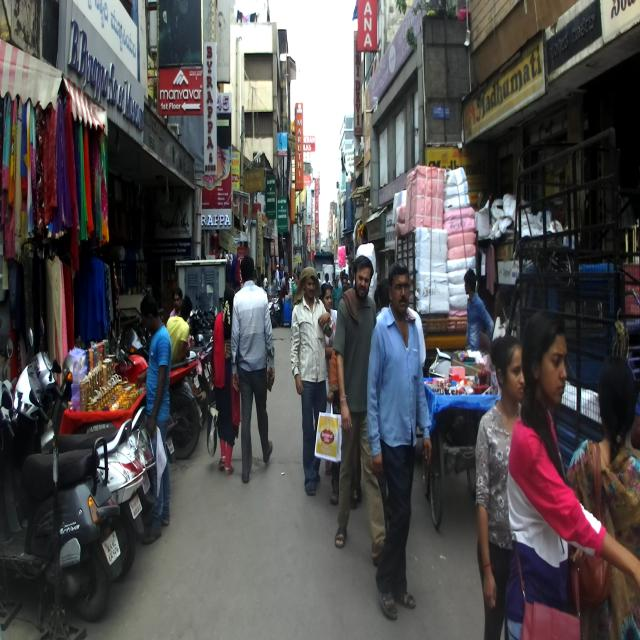motorcycle ahead at: (0, 425, 120, 624)
person ahead at: (508, 313, 608, 640), (367, 267, 425, 623), (232, 253, 280, 488), (140, 287, 178, 542), (292, 258, 331, 500)
